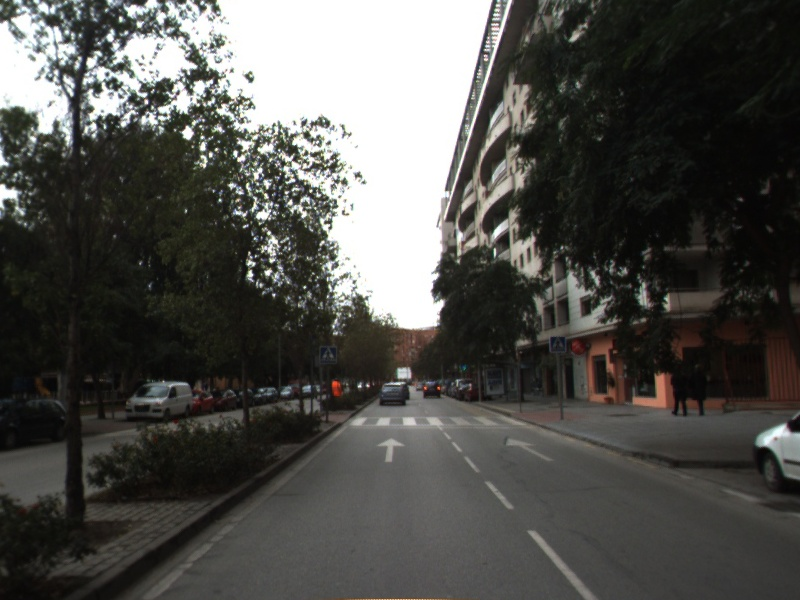STRAIGHT: (503, 435, 558, 464), (374, 436, 408, 465)
